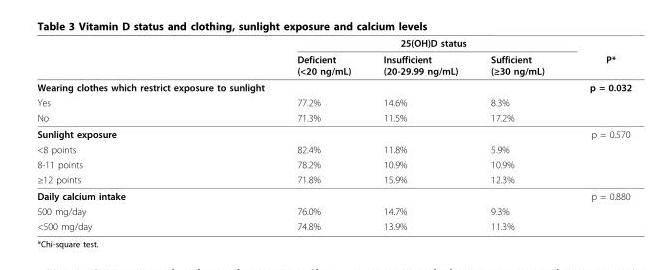table: (36, 36, 631, 231)
table column: (36, 36, 280, 231), (366, 36, 477, 231), (477, 36, 566, 231), (280, 36, 366, 231), (566, 36, 631, 231)
table column header: (36, 36, 631, 78)
table row: (36, 50, 631, 78), (36, 78, 631, 94), (36, 109, 631, 125), (36, 125, 631, 141), (36, 171, 631, 187), (36, 187, 631, 203), (36, 94, 631, 109), (36, 141, 631, 156), (36, 156, 631, 171), (36, 203, 631, 218), (36, 36, 631, 50), (36, 218, 631, 231)
table spanning cell: (366, 36, 477, 78), (477, 36, 566, 78), (280, 36, 366, 78), (566, 36, 631, 78)
